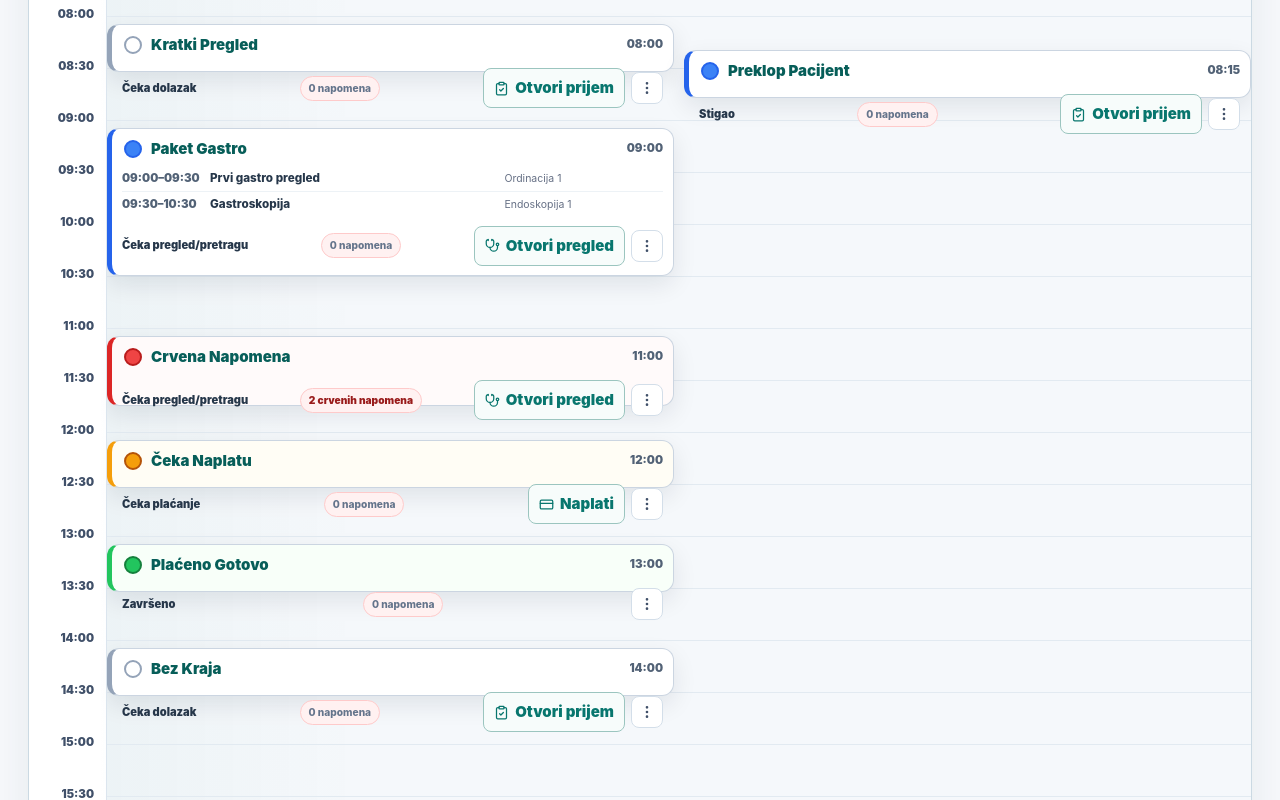
Test: vremenska dnevna ploča › red-flag status uses red color and opens structured details
The image size is (1280, 800).
(page scrolled)
Expected: the button "Crvena Napomena" is shown, [151,346,290,368]
Click the button "2 crvenih napomena" at (361, 400), box [300,388,422,413]
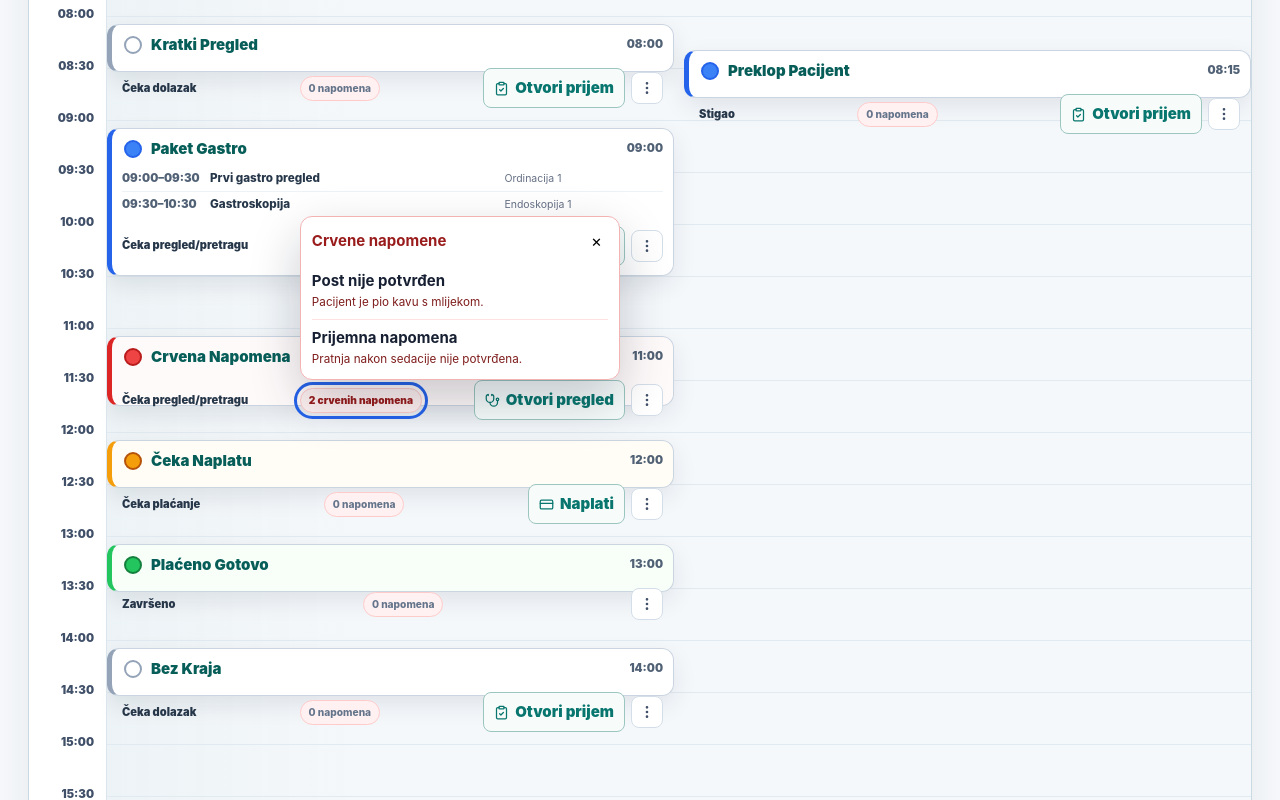
Now the dialog named "Crvene napomene za Crvena Napomena" is shown, box [300,216,620,380]
Now the text "Pacijent je pio kavu s mlijekom." is shown, box [312,295,484,309]
Now the text "Pratnja nakon sedacije nije potvrđena." is shown, box [312,352,522,366]
